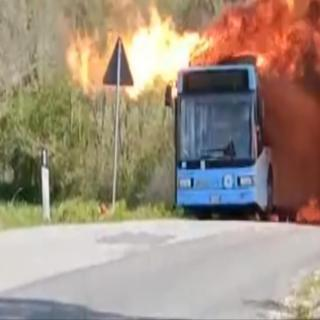smoke: (213, 7, 320, 69), (275, 76, 320, 209)
